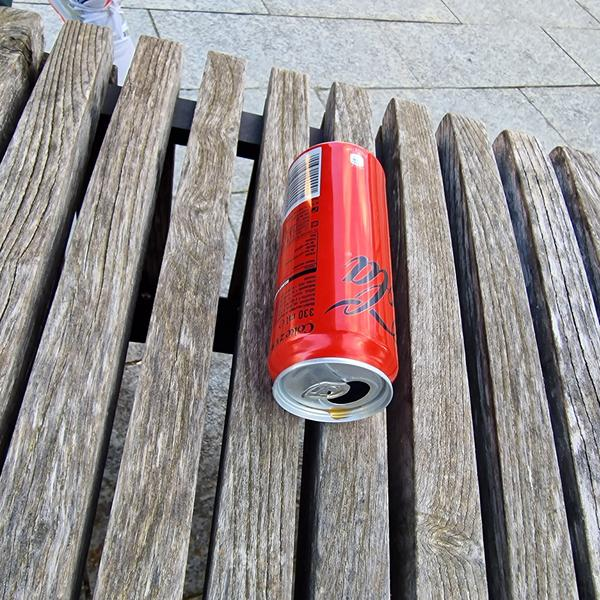can: (268, 139, 393, 424)
